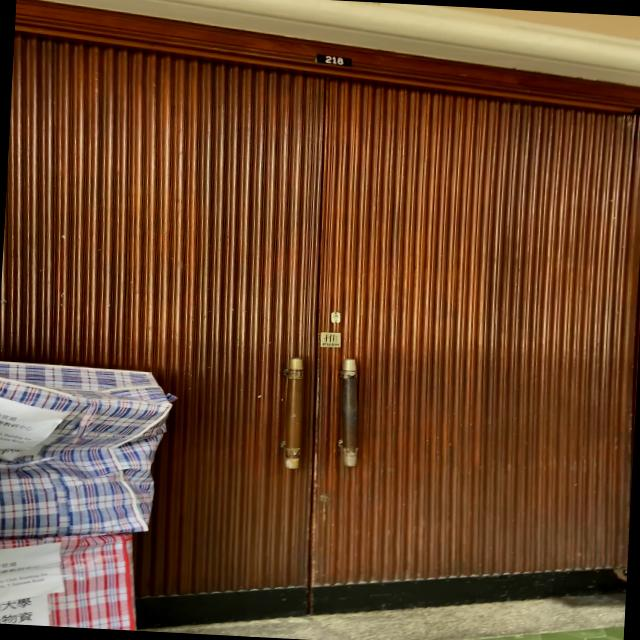room218: (313, 52, 355, 68)
